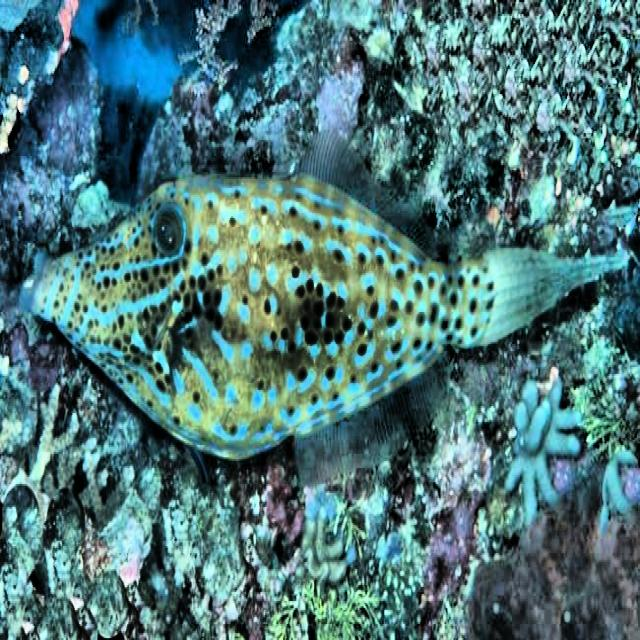fish: (19, 126, 622, 478)
